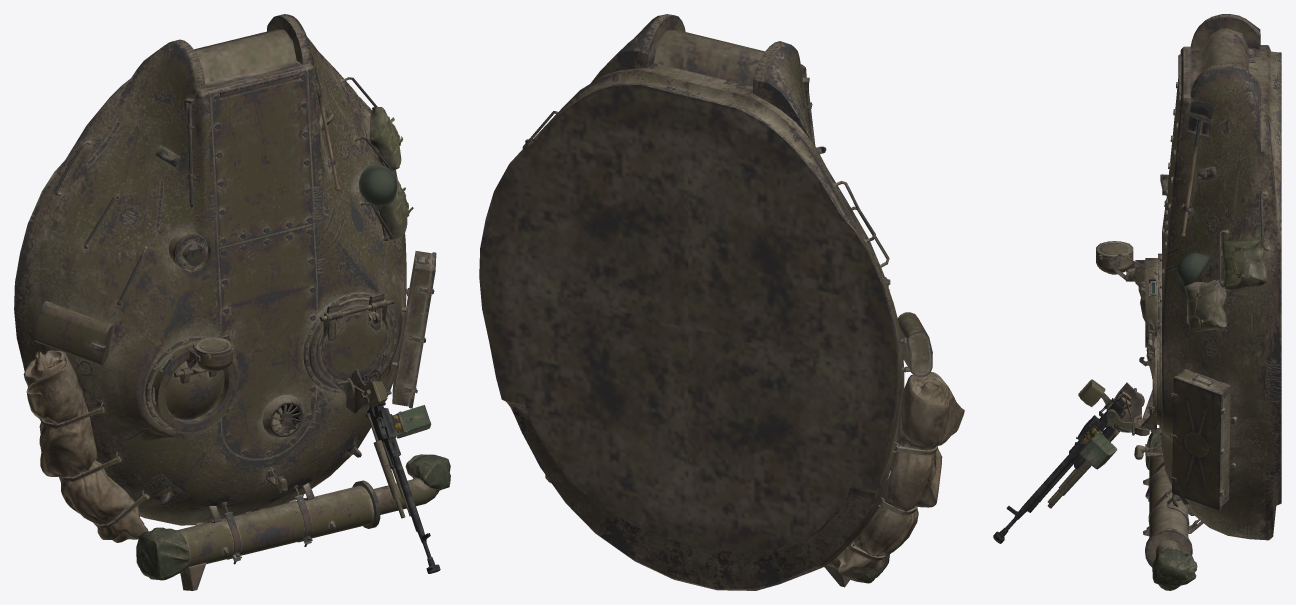
File: Turret_01.glb
The picture shows the model from 3 angles, left to right: view 1: azimuth 30°, elevation 25°; view 2: azimuth 150°, elevation 25°; view 3: azimuth 270°, elevation 25°; orthographic projection. The views are drawn at different scales.
Parts seen in each view (by area): view 1: set_0_group_0, set_0_group_1; view 2: set_0_group_0, set_0_group_1; view 3: set_0_group_0, set_0_group_1.
Part boxes in pixels (left/top/right/bottom): set_0_group_0: left=14, top=14, right=407, bottom=525; set_0_group_1: left=23, top=53, right=450, bottom=590; set_0_group_0: left=479, top=14, right=904, bottom=590; set_0_group_1: left=525, top=92, right=964, bottom=587; set_0_group_0: left=1135, top=14, right=1281, bottom=540; set_0_group_1: left=993, top=100, right=1267, bottom=590.
Size of the model in its own units: 3.69 by 4.38 by 2.28.
Materials: 2 (2 with a texture image).
